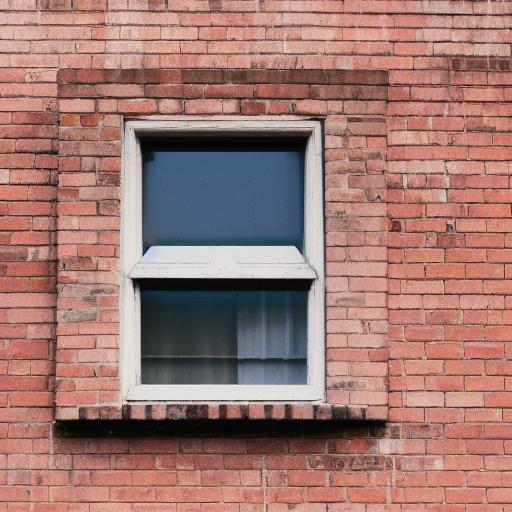Window: (55, 67, 393, 427)
